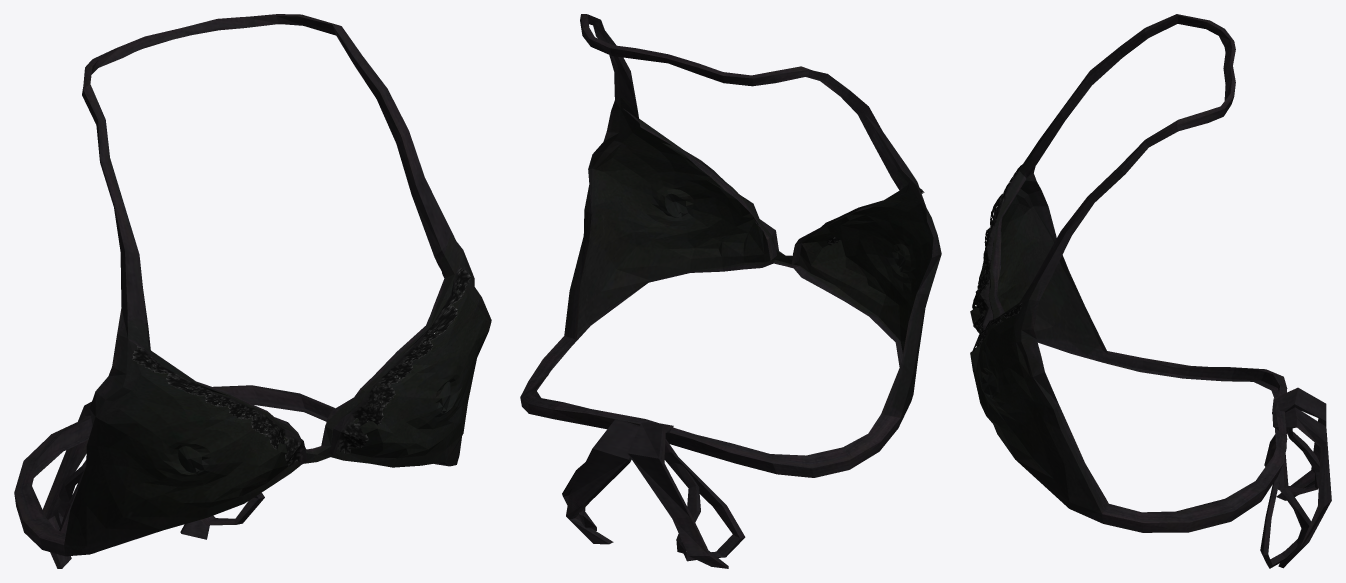
File: mhw_punkduck_transparent_bra.glb
3 renders of one model, left to right at view 1: azimuth 30°, elevation 25°; view 2: azimuth 150°, elevation 25°; view 3: azimuth 270°, elevation 25°, orthographic. The views are drawn at different scales.
Parts seen in each view (by area): view 1: mhw_punkduck_transparent_bra; view 2: mhw_punkduck_transparent_bra; view 3: mhw_punkduck_transparent_bra.
Part boxes in pixels (x1=…): mhw_punkduck_transparent_bra: x1=14, y1=14, x2=491, y2=568; mhw_punkduck_transparent_bra: x1=520, y1=14, x2=941, y2=568; mhw_punkduck_transparent_bra: x1=970, y1=14, x2=1331, y2=568.
Size of the model in its own units: 0.3132 by 0.4126 by 0.2806.
Materials: 1 (1 with a texture image).
